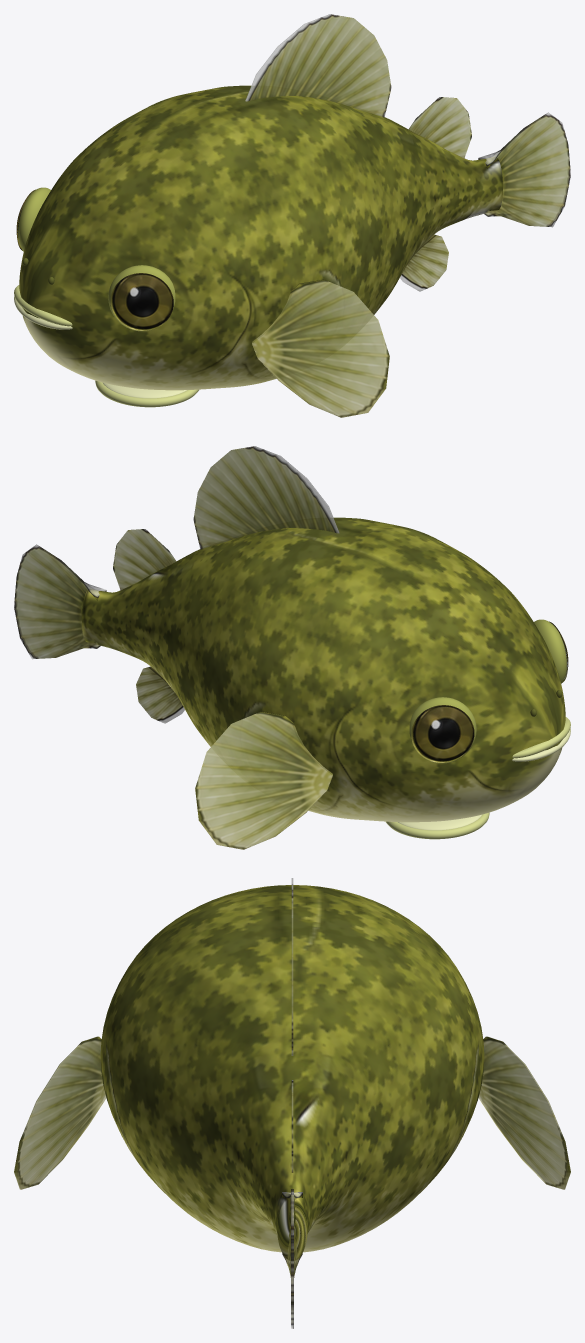
Rendered from dangouo-green.glb.
3 views of the same model, one above another, from view 1: azimuth 30°, elevation 25°; view 2: azimuth 150°, elevation 25°; view 3: azimuth 270°, elevation 25° (orthographic). The views are drawn at different scales.
Visible parts, largest first — view 1: Body_continuous_skin, Pectoral_right, Dorsal_1, Caudal, Eye_iris_1, Dorsal_2, Anal, Pelvic_disc_rim, Eye_globe_-1, Eye_globe_1, Pelvic_disc_dish, Mouth_upper; view 2: Body_continuous_skin, Pectoral_left, Dorsal_1, Caudal, Eye_iris_-1, Dorsal_2, Anal, Pelvic_disc_rim, Eye_globe_1, Eye_globe_-1, Pelvic_disc_dish, Mouth_upper; view 3: Body_continuous_skin, Pectoral_left, Pectoral_right, Caudal.
Part boxes in pixels (x1,y1,x2,y2): Body_continuous_skin: [19, 85, 502, 390]; Pectoral_right: [252, 279, 389, 417]; Dorsal_1: [245, 14, 391, 117]; Caudal: [478, 112, 570, 227]; Eye_iris_1: [110, 273, 173, 330]; Dorsal_2: [408, 97, 471, 158]; Anal: [400, 234, 448, 291]; Pelvic_disc_rim: [95, 380, 198, 407]; Eye_globe_-1: [18, 187, 50, 251]; Eye_globe_1: [108, 265, 175, 331]; Pelvic_disc_dish: [103, 382, 186, 398]; Mouth_upper: [14, 285, 72, 326]; Body_continuous_skin: [82, 517, 565, 822]; Pectoral_left: [195, 711, 332, 849]; Dorsal_1: [193, 446, 339, 549]; Caudal: [14, 544, 106, 659]; Eye_iris_-1: [411, 705, 474, 762]; Dorsal_2: [113, 529, 176, 590]; Anal: [136, 666, 184, 723]; Pelvic_disc_rim: [386, 812, 489, 839]; Eye_globe_1: [534, 619, 566, 683]; Eye_globe_-1: [409, 697, 476, 763]; Pelvic_disc_dish: [398, 814, 481, 830]; Mouth_upper: [512, 717, 570, 758]; Body_continuous_skin: [100, 885, 484, 1260]; Pectoral_left: [478, 1036, 570, 1189]; Pectoral_right: [14, 1036, 106, 1189]; Caudal: [282, 1189, 302, 1328].
Size of the model in its own units: 0.0297 by 0.0171 by 0.0224.
Materials: 2 (2 with a texture image).
